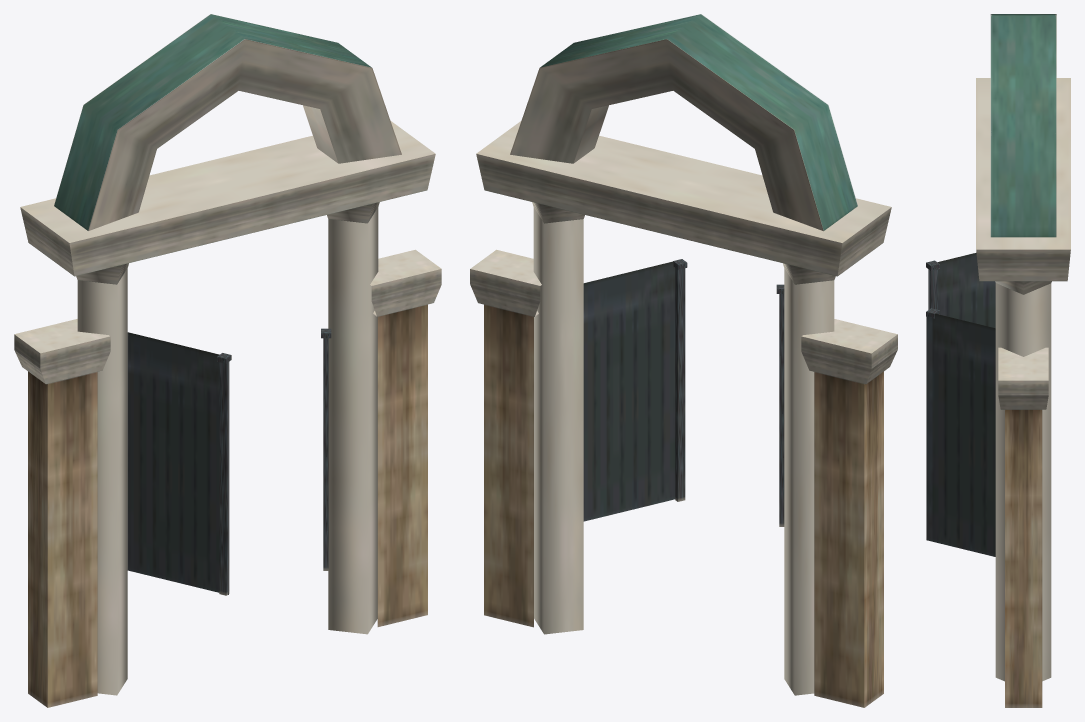
Rendered from thm_nboo_imprv_narrow_gate_s01_l2.fbx.
3 renders of one model, left to right at view 1: azimuth 30°, elevation 25°; view 2: azimuth 150°, elevation 25°; view 3: azimuth 270°, elevation 25°, orthographic. The views are drawn at different scales.
Visible parts, largest first — view 1: mesh_node; view 2: mesh_node; view 3: mesh_node.
Boxes of the visible parts, bbox=[...] form: mesh_node: bbox=[14, 14, 441, 707]; mesh_node: bbox=[470, 14, 897, 707]; mesh_node: bbox=[926, 14, 1070, 707].
Bounding box in the file's own units: 8.01 × 11.97 × 2.61.
